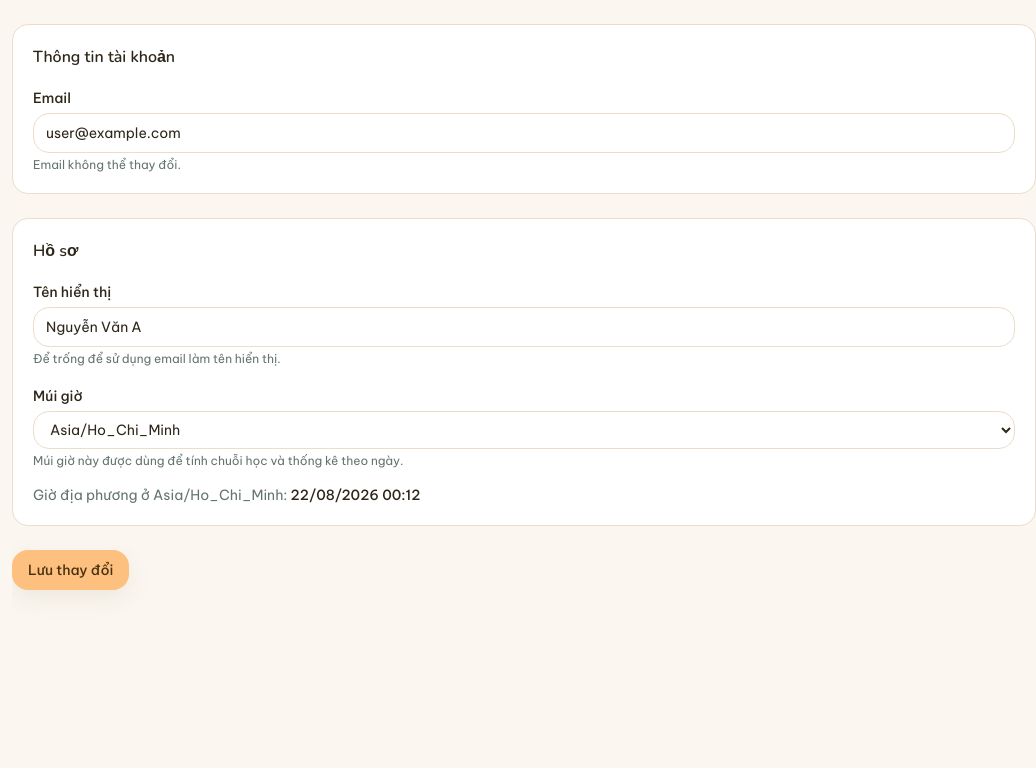
Test: ProfileSettingsForm › submits the display name and timezone and reports success
Replace the text in the field labelled "Tên hiển thị" with "Tên mới". click: (524, 327)
box: x1=33 y1=307 x2=1015 y2=347
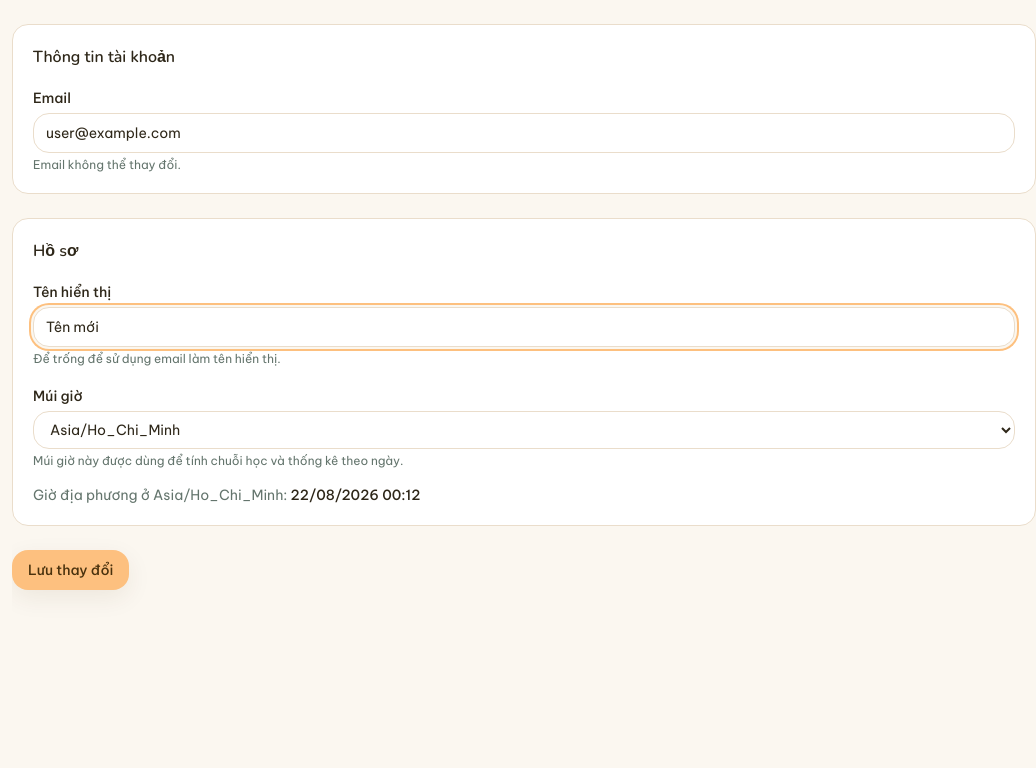
Select "Europe/Paris" in the dropdown labelled "Múi giờ". click: (524, 430)
box: x1=33 y1=411 x2=1015 y2=449
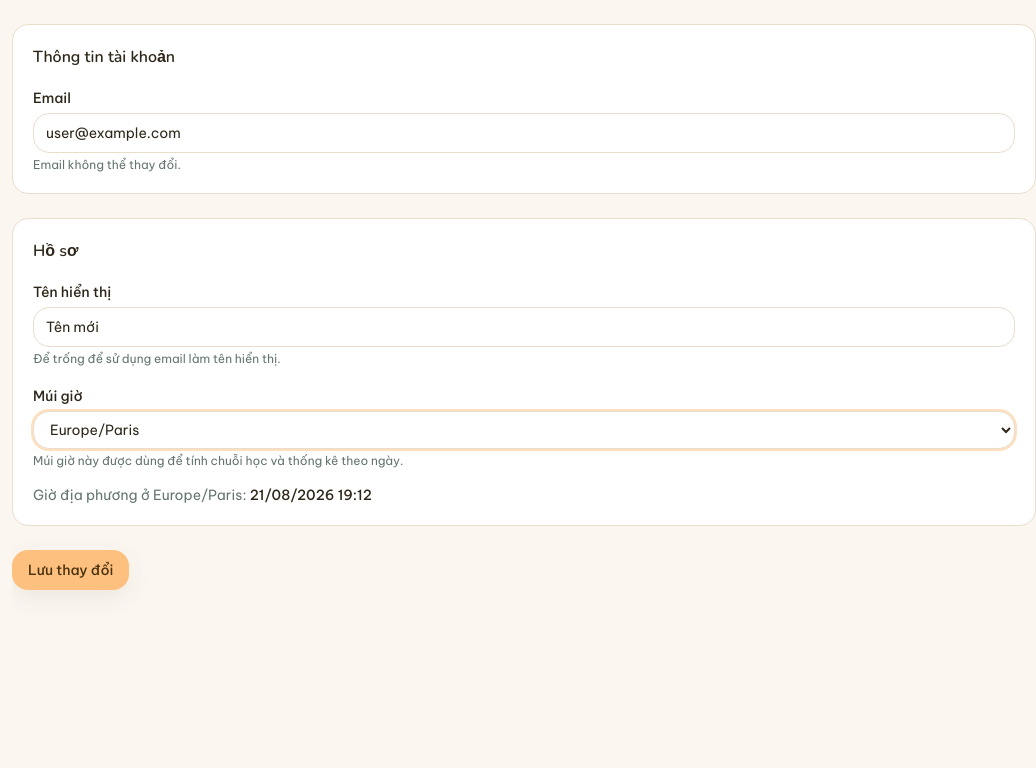
Click the button "Lưu thay đổi". click: (71, 570)
box: x1=12 y1=550 x2=129 y2=590
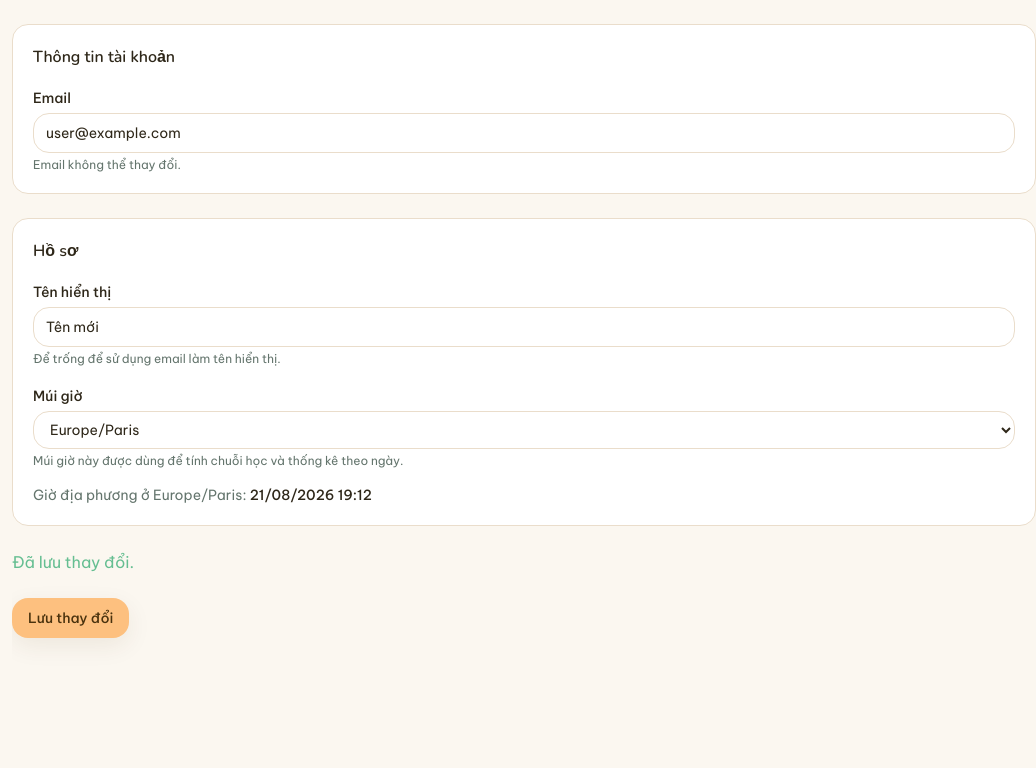
Expected: the message reads "Đã lưu thay đổi.", x1=12 y1=552 x2=134 y2=572
